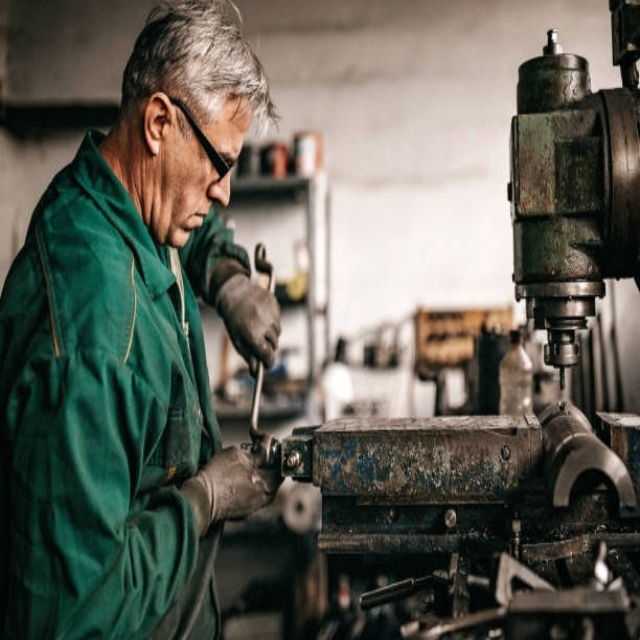Gafas: (165, 94, 235, 183)
Guantes: (180, 442, 284, 530), (212, 271, 281, 374)
Sin_mascara: (170, 201, 215, 246)
